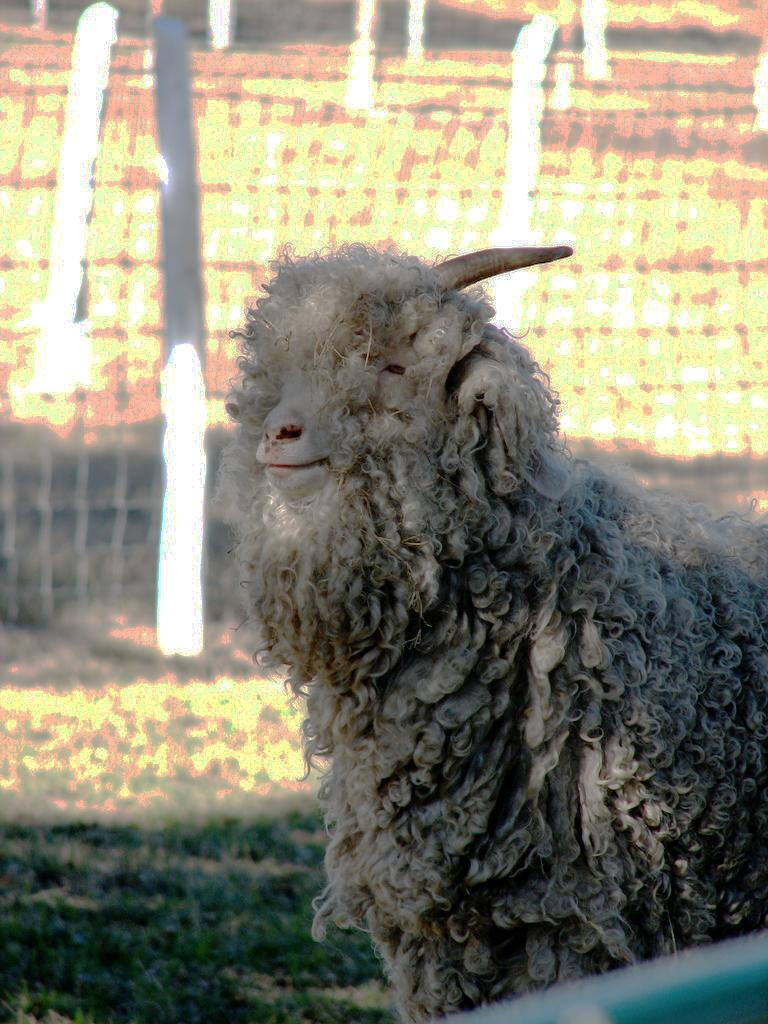Sheep: (203, 240, 763, 1022)
